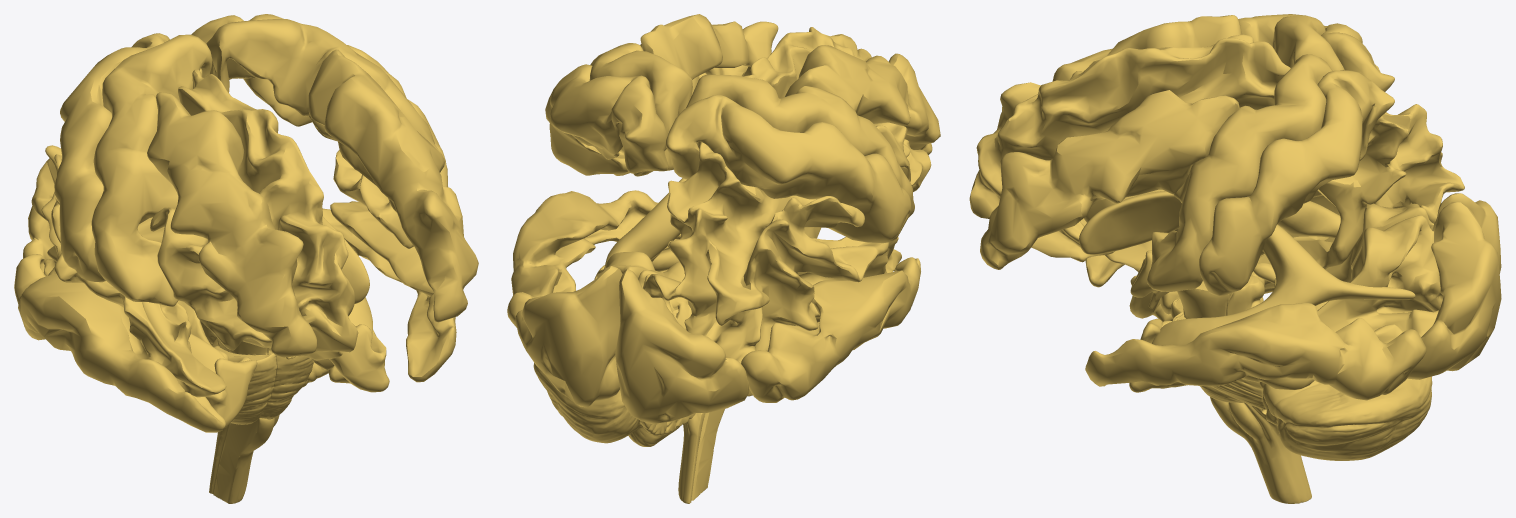
Rendered from head-2.glb.
3 views of the same model, side by side, from view 1: azimuth 30°, elevation 25°; view 2: azimuth 150°, elevation 25°; view 3: azimuth 270°, elevation 25° (orthographic). The views are drawn at different scales.
Parts seen in each view (by area): view 1: FJ1806, FJ1788, FJ1787, FJ1801, FJ1790, FJ1800, FJ1798, FJ1789, FJ1769, FJ1797, FJ1783, FJ1784 (+6 smaller); view 2: FJ1806, FJ1798, FJ1792, FJ1790, FJ1791, FJ1797, FJ1789, FJ1788, FJ1801, FJ1787, FJ1800, FJ1781 (+2 smaller); view 3: FJ1806, FJ1787, FJ1789, FJ1791, FJ1797, FJ1800, FJ1767, FJ1781, FJ1788, FJ1769, FJ1801, FJ1792 (+8 smaller).
Boxes of the visible parts, x1=… form: FJ1806: x1=31, y1=68, x2=358, y2=397; FJ1788: x1=147, y1=92, x2=317, y2=357; FJ1787: x1=308, y1=49, x2=478, y2=322; FJ1801: x1=91, y1=34, x2=212, y2=306; FJ1790: x1=14, y1=254, x2=225, y2=432; FJ1800: x1=206, y1=19, x2=447, y2=248; FJ1798: x1=54, y1=33, x2=169, y2=282; FJ1789: x1=322, y1=201, x2=456, y2=382; FJ1769: x1=209, y1=415, x2=279, y2=503; FJ1797: x1=191, y1=14, x2=446, y2=206; FJ1783: x1=328, y1=324, x2=389, y2=392; FJ1784: x1=205, y1=358, x2=257, y2=427; FJ1806: x1=643, y1=27, x2=931, y2=363; FJ1798: x1=666, y1=94, x2=911, y2=243; FJ1792: x1=615, y1=262, x2=748, y2=423; FJ1790: x1=741, y1=257, x2=920, y2=402; FJ1791: x1=515, y1=251, x2=654, y2=407; FJ1797: x1=545, y1=64, x2=668, y2=175; FJ1789: x1=507, y1=190, x2=680, y2=327; FJ1788: x1=785, y1=45, x2=940, y2=154; FJ1801: x1=686, y1=74, x2=914, y2=217; FJ1787: x1=640, y1=14, x2=778, y2=95; FJ1800: x1=589, y1=43, x2=692, y2=176; FJ1781: x1=533, y1=363, x2=695, y2=446; FJ1806: x1=969, y1=34, x2=1464, y2=272; FJ1787: x1=980, y1=90, x2=1239, y2=269; FJ1789: x1=1085, y1=303, x2=1426, y2=400; FJ1791: x1=1317, y1=202, x2=1501, y2=379; FJ1797: x1=1199, y1=70, x2=1394, y2=296; FJ1800: x1=1147, y1=54, x2=1332, y2=291; FJ1767: x1=1079, y1=191, x2=1415, y2=345; FJ1781: x1=1259, y1=301, x2=1432, y2=460; FJ1788: x1=993, y1=15, x2=1242, y2=133; FJ1769: x1=1210, y1=397, x2=1311, y2=503; FJ1801: x1=1238, y1=14, x2=1344, y2=70; FJ1792: x1=1324, y1=193, x2=1501, y2=282.
Bounding box in the file's own units: 0.1388 × 0.1622 × 0.1729.
